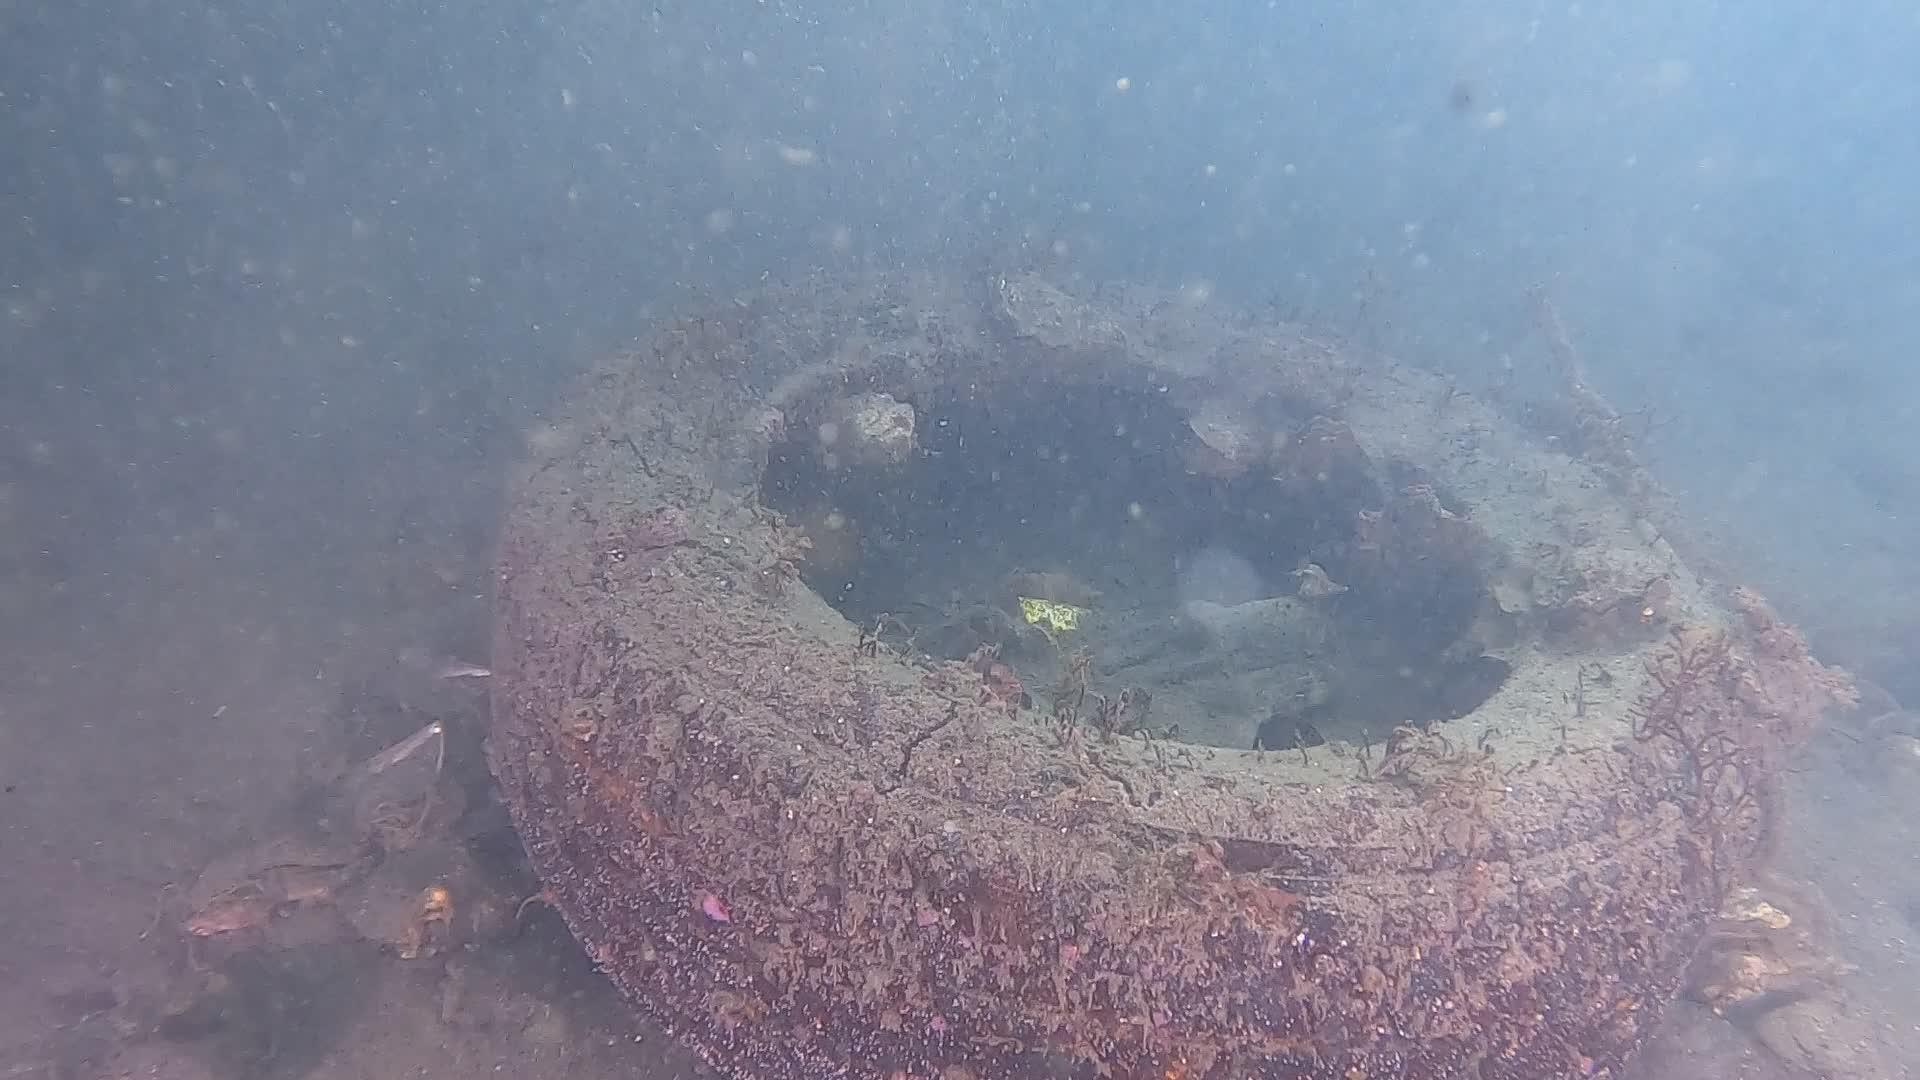tire: (491, 269, 1770, 1080)
